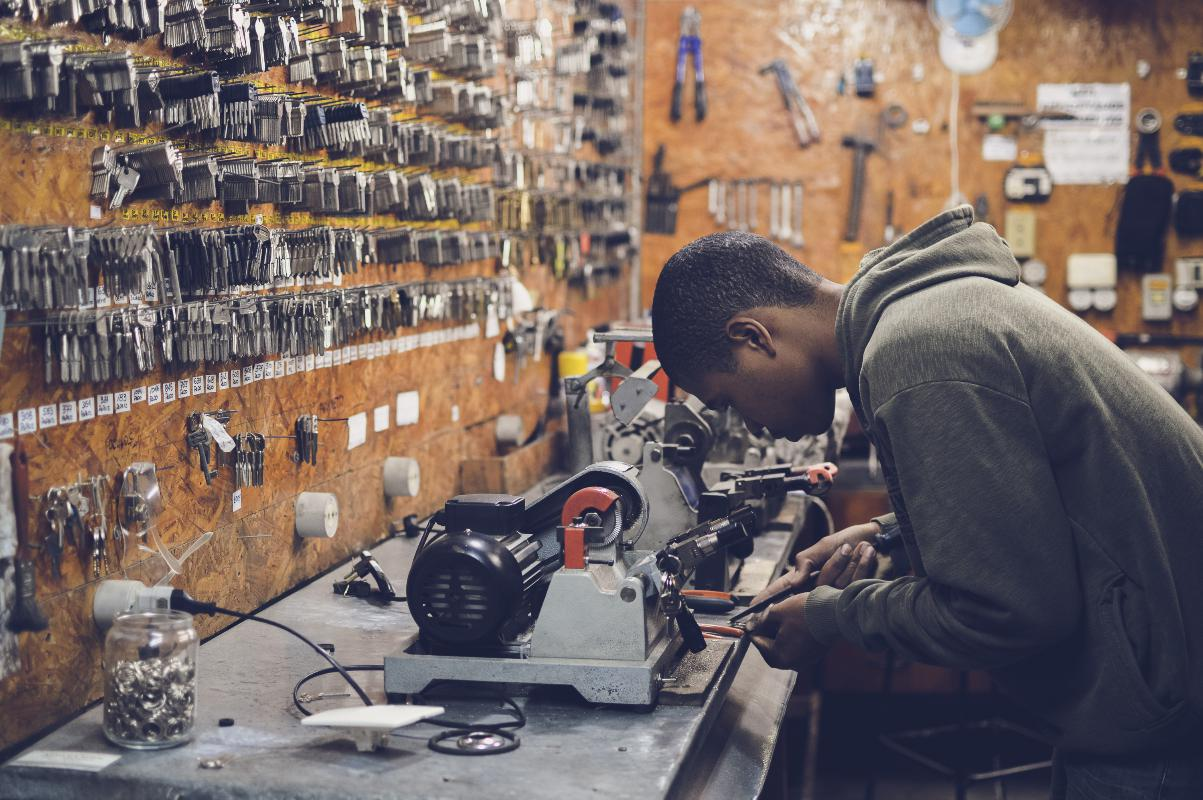Person: (656, 223, 1203, 799)
